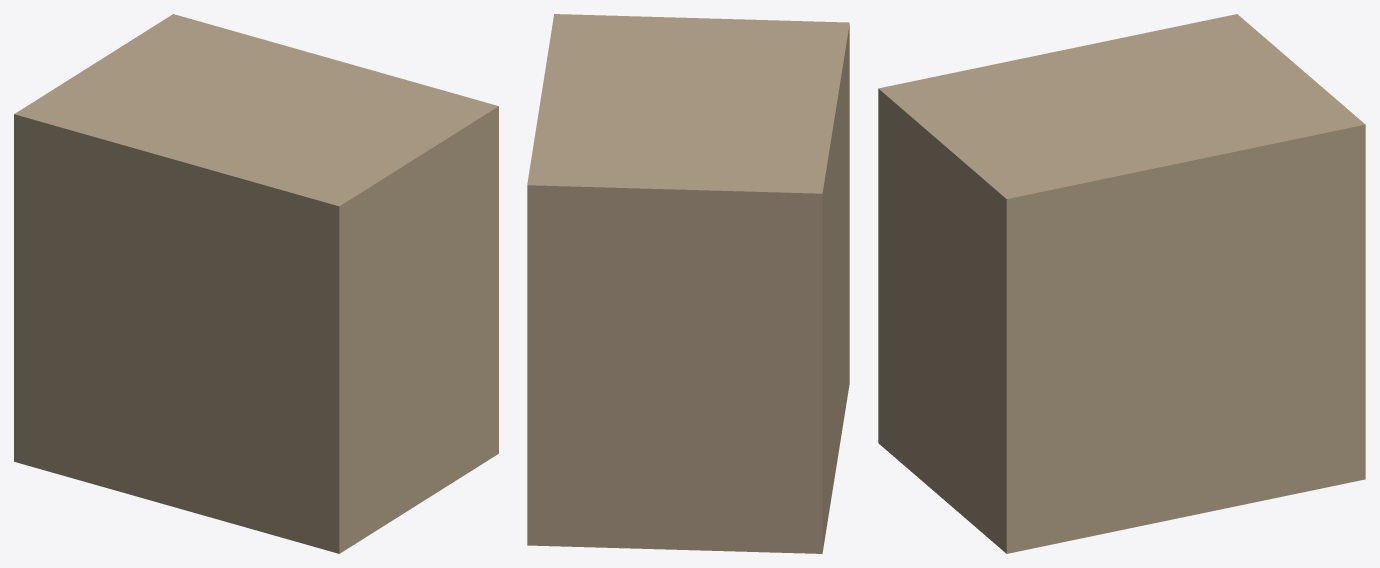
Rendered from bld_107625288.dae.
The picture shows the model from 3 angles, left to right: view 1: azimuth 30°, elevation 25°; view 2: azimuth 150°, elevation 25°; view 3: azimuth 270°, elevation 25°; orthographic projection. The views are drawn at different scales.
Parts seen in each view (by area): view 1: bld_107625288; view 2: bld_107625288; view 3: bld_107625288.
Boxes of the visible parts, x1,y1,x2,y2 form: bld_107625288: (14,14,498,553); bld_107625288: (527,14,849,553); bld_107625288: (878,14,1365,553).
Bounding box in the file's own units: 8.96 × 9.96 × 8.
